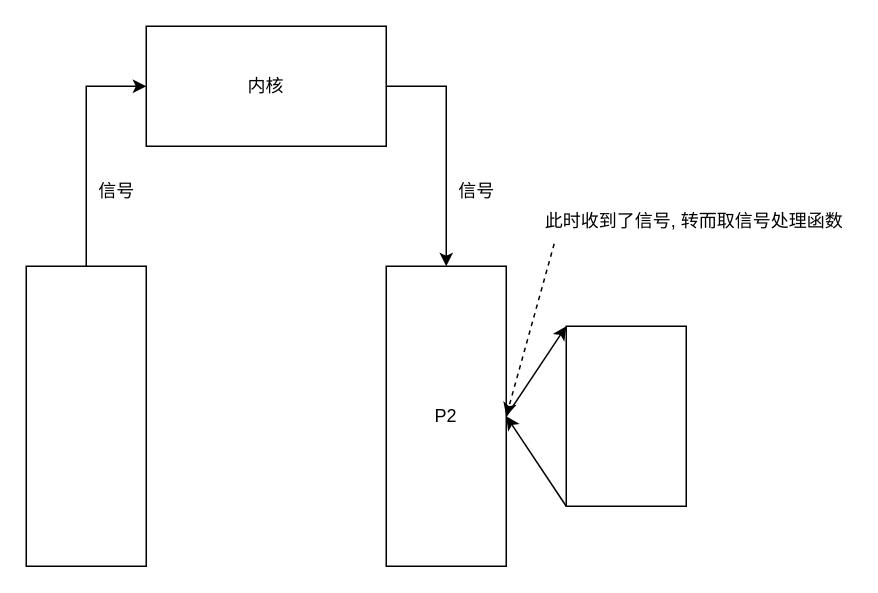
This 878x593 diagram has some shape labels left out. Here are the shapes that lost their labels. From the top down, the centre of each, then its label:
At [85,415]: "P1".
At [625,415]: "P2 信号处理函数".
